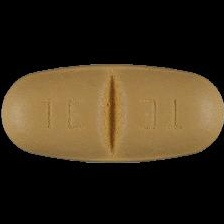54868-4837: (0, 0, 224, 224)
